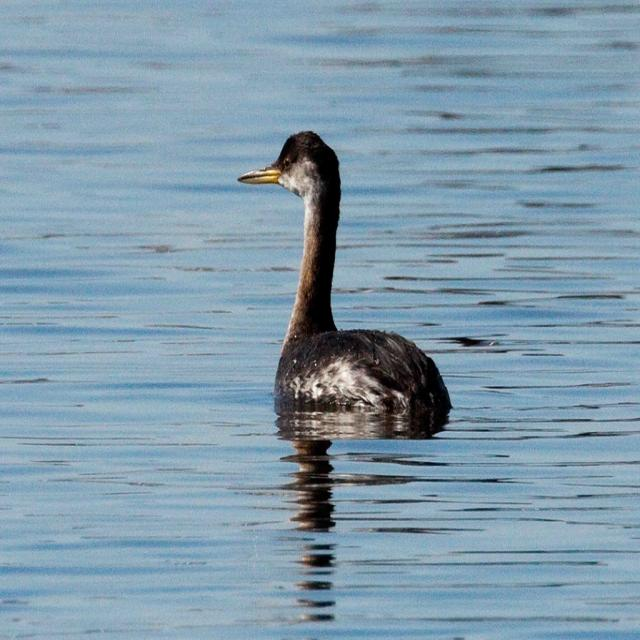bird: (235, 130, 454, 417)
